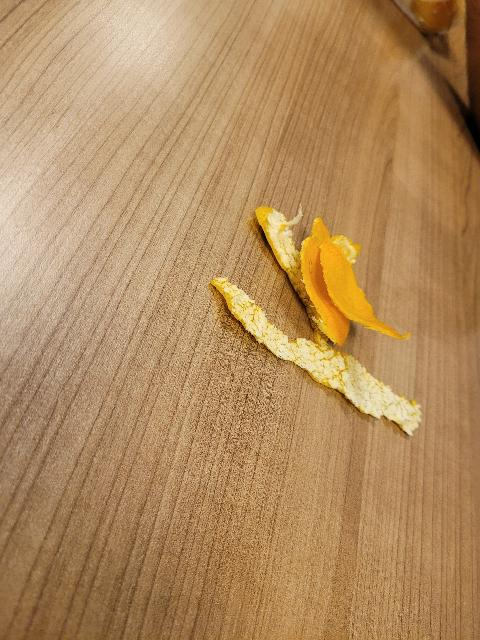Organik: (202, 266, 435, 452), (248, 193, 414, 360)
